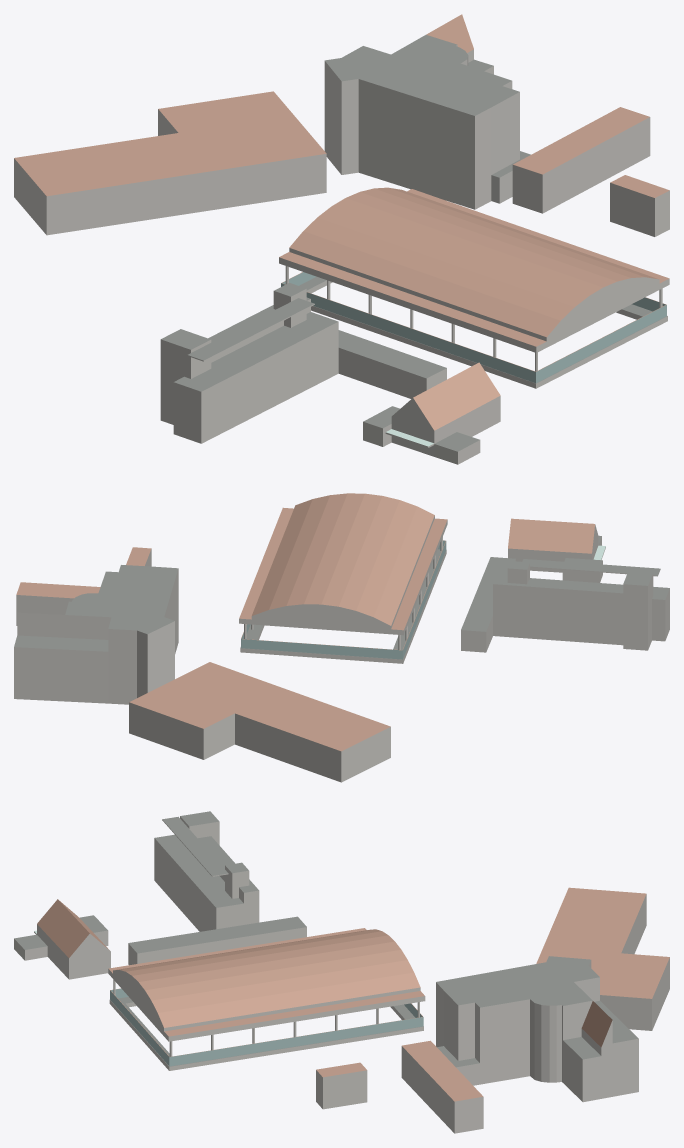
File: gridID_94.dae
The picture shows the model from 3 angles, top to bottom: view 1: azimuth 30°, elevation 25°; view 2: azimuth 150°, elevation 25°; view 3: azimuth 270°, elevation 25°; orthographic projection. The views are drawn at different scales.
Visible parts, largest first — view 1: model_gridID_94_w380040189, model_gridID_94_w116945151, model_gridID_94_w116945148, model_gridID_94_w116945145, model_gridID_94_w116945148_001, model_gridID_94_w380370171, model_gridID_94_w380052467; view 2: model_gridID_94_w380040189, model_gridID_94_w116945151, model_gridID_94_w116945148, model_gridID_94_w116945145, model_gridID_94_w380370171, model_gridID_94_w116945148_001, model_gridID_94_w380052467; view 3: model_gridID_94_w380040189, model_gridID_94_w116945148, model_gridID_94_w116945145, model_gridID_94_w116945151, model_gridID_94_w380370171, model_gridID_94_w116945148_001, model_gridID_94_w380052467.
Part boxes in pixels (x1,y1,x2,y2): model_gridID_94_w380040189: [279, 187, 669, 388]; model_gridID_94_w116945151: [14, 91, 326, 235]; model_gridID_94_w116945148: [324, 14, 530, 209]; model_gridID_94_w116945145: [160, 283, 446, 443]; model_gridID_94_w116945148_001: [512, 107, 650, 213]; model_gridID_94_w380370171: [363, 362, 500, 464]; model_gridID_94_w380052467: [610, 175, 669, 236]; model_gridID_94_w380040189: [239, 493, 447, 663]; model_gridID_94_w116945151: [129, 662, 390, 782]; model_gridID_94_w116945148: [14, 565, 178, 704]; model_gridID_94_w116945145: [461, 557, 669, 652]; model_gridID_94_w380370171: [508, 518, 602, 582]; model_gridID_94_w116945148_001: [16, 582, 100, 625]; model_gridID_94_w380052467: [126, 547, 151, 566]; model_gridID_94_w380040189: [108, 928, 425, 1070]; model_gridID_94_w116945148: [436, 956, 638, 1102]; model_gridID_94_w116945145: [128, 811, 306, 965]; model_gridID_94_w116945151: [536, 887, 669, 1030]; model_gridID_94_w380370171: [14, 899, 110, 979]; model_gridID_94_w116945148_001: [401, 1040, 483, 1133]; model_gridID_94_w380052467: [316, 1062, 367, 1109].
Bounding box in the file's own units: 129 × 139 × 18.
